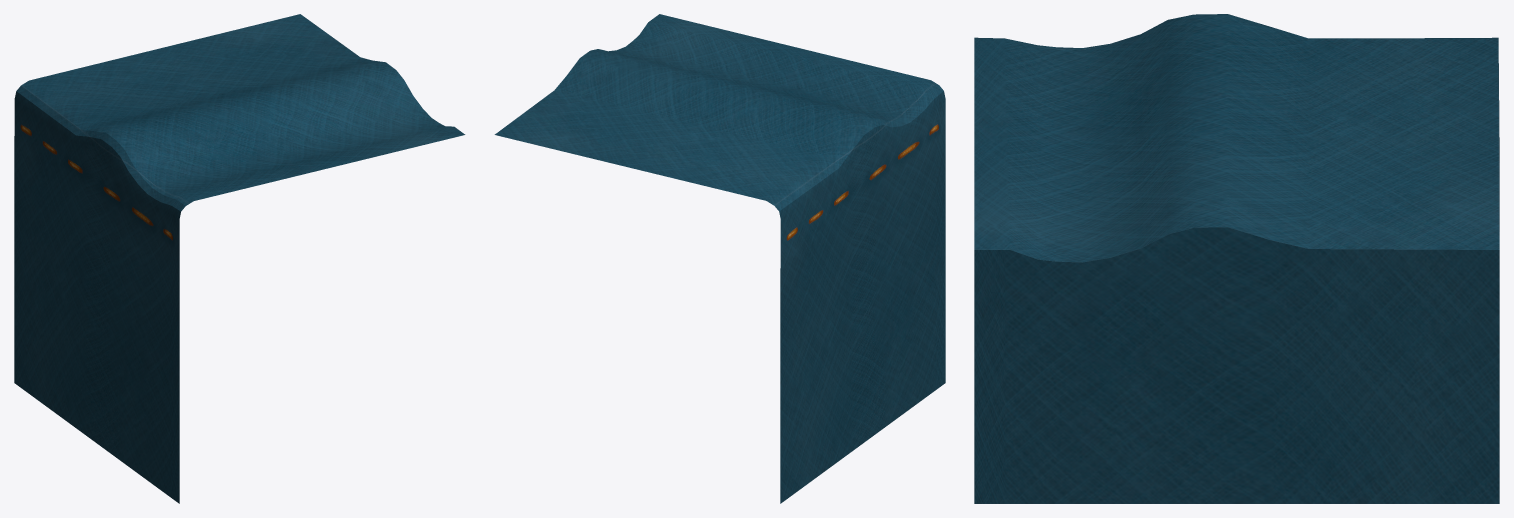
The model's file is tl_jean_mid2.FBX.
The picture shows the model from 3 angles, left to right: view 1: azimuth 30°, elevation 25°; view 2: azimuth 150°, elevation 25°; view 3: azimuth 270°, elevation 25°; orthographic projection. The views are drawn at different scales.
Visible parts, largest first — view 1: tl_mid2; view 2: tl_mid2; view 3: tl_mid2.
Part boxes in pixels (x1,y1,x2,y2): tl_mid2: [14, 14, 465, 503]; tl_mid2: [494, 14, 945, 503]; tl_mid2: [974, 14, 1499, 503].
Bounding box in the file's own units: 100 × 105 × 100.
